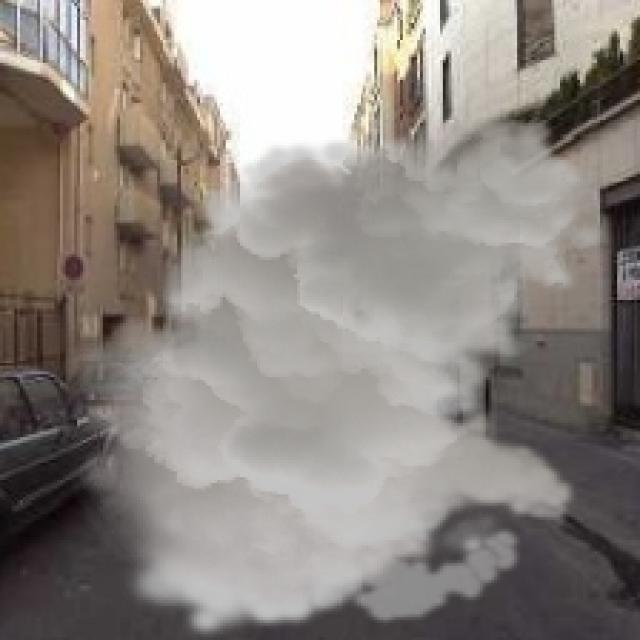Smoke: (57, 112, 614, 638)
